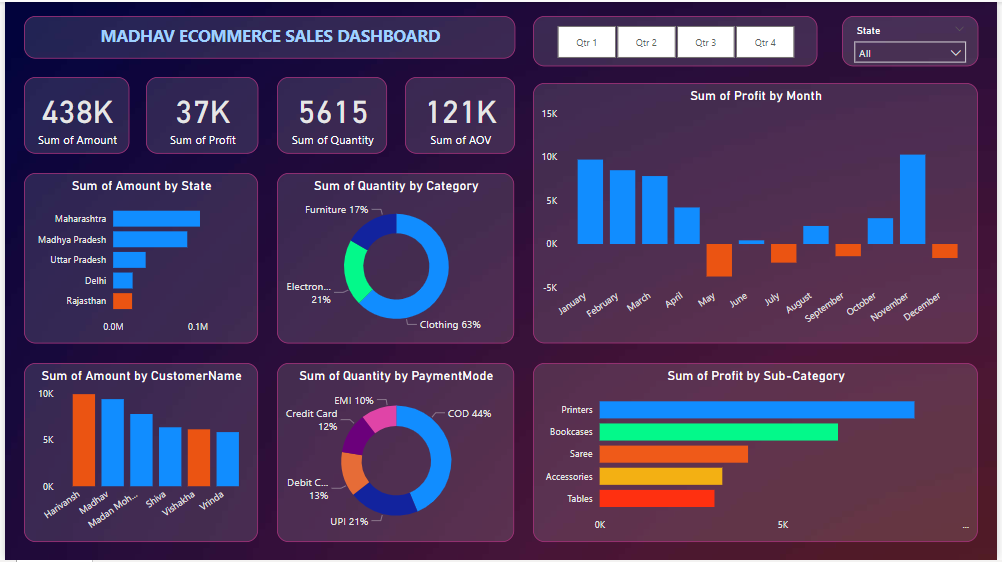

This screenshot's page, from the dashboard's own definition file:
{"tool":"powerbi","page":{"name":"Page 1","canvas":[1280,720],"ordinal":0},"visuals":[{"type":"textbox","box":[24.1,18.4,633.5,55.3],"z":0},{"type":"columnChart","fields":{"Y":["Details.Profit"],"Category":["Orders.Order Date.Variation.Date Hierarchy.Month"]},"box":[681.7,104.9,574,335.9],"z":1000},{"type":"barChart","fields":{"Category":["Details.Sub-Category"],"Y":["Details.Profit"]},"box":[681.7,466.3,574,231],"z":2000},{"type":"donutChart","fields":{"Category":["Details.Category"],"Y":["Details.Quantity"]},"box":[351.5,221.1,306.1,219.7],"z":3000},{"type":"donutChart","fields":{"Category":["Details.PaymentMode"],"Y":["Details.Quantity"]},"box":[351.5,466.3,306.1,231],"z":4000},{"type":"card","fields":{"Values":["Details.Amount"]},"box":[24.1,96.4,136.1,99.2],"z":5000},{"type":"card","fields":{"Values":["Details.Quantity"]},"box":[351.5,96.4,141.7,99.2],"z":6000},{"type":"card","fields":{"Values":["Details.Profit"]},"box":[181.4,96.4,144.6,99.2],"z":7000},{"type":"card","fields":{"Values":["Details.AOV"]},"box":[515.9,96.4,141.7,99.2],"z":8000},{"type":"clusteredBarChart","fields":{"Y":["Details.Amount"],"Category":["Orders.State"]},"box":[24.1,221.1,301.9,219.7],"z":8001},{"type":"columnChart","fields":{"Category":["Orders.CustomerName"],"Y":["Details.Amount"]},"box":[24.1,466.3,301.9,231],"z":8002},{"type":"slicer","fields":{"Values":["Orders.Order Date.Variation.Date Hierarchy.Quarter"]},"box":[681.7,18.4,367.1,65.2],"z":8003},{"type":"slicer","fields":{"Values":["Orders.State"]},"box":[1080,18.4,175.7,65.2],"z":8004}]}

Visuals, with their boxes in screenshot pixels (x1, y1, x2, y2), scaled from the page's 1280x720 canvas onto the 1002x562 screenshot:
textbox: l=19, t=14, r=515, b=58
columnChart - Details.Profit x Orders.Order Date.Variation.Date Hierarchy.Month: l=534, t=82, r=983, b=344
barChart - Details.Sub-Category x Details.Profit: l=534, t=364, r=983, b=544
donutChart - Details.Category x Details.Quantity: l=275, t=173, r=515, b=344
donutChart - Details.PaymentMode x Details.Quantity: l=275, t=364, r=515, b=544
card - Details.Amount: l=19, t=75, r=125, b=153
card - Details.Quantity: l=275, t=75, r=386, b=153
card - Details.Profit: l=142, t=75, r=255, b=153
card - Details.AOV: l=404, t=75, r=515, b=153
clusteredBarChart - Details.Amount x Orders.State: l=19, t=173, r=255, b=344
columnChart - Orders.CustomerName x Details.Amount: l=19, t=364, r=255, b=544
slicer - Orders.Order Date.Variation.Date Hierarchy.Quarter: l=534, t=14, r=821, b=65
slicer - Orders.State: l=845, t=14, r=983, b=65
